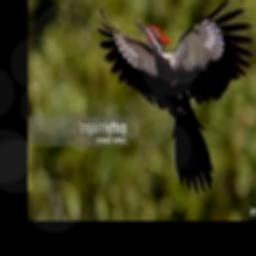Woodpecker: (96, 0, 253, 193)
